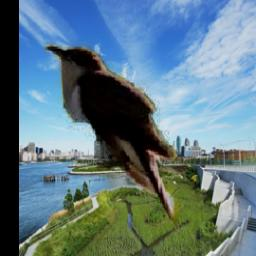Cuckoo: (45, 42, 179, 240)
